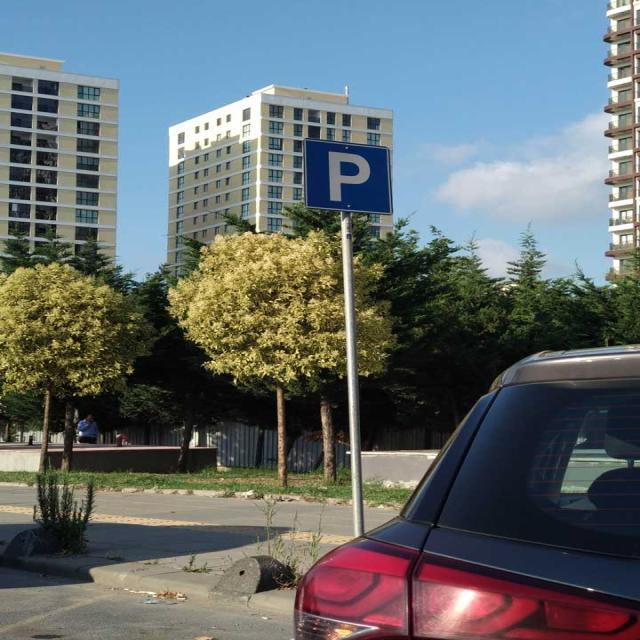park: (303, 138, 393, 215)
